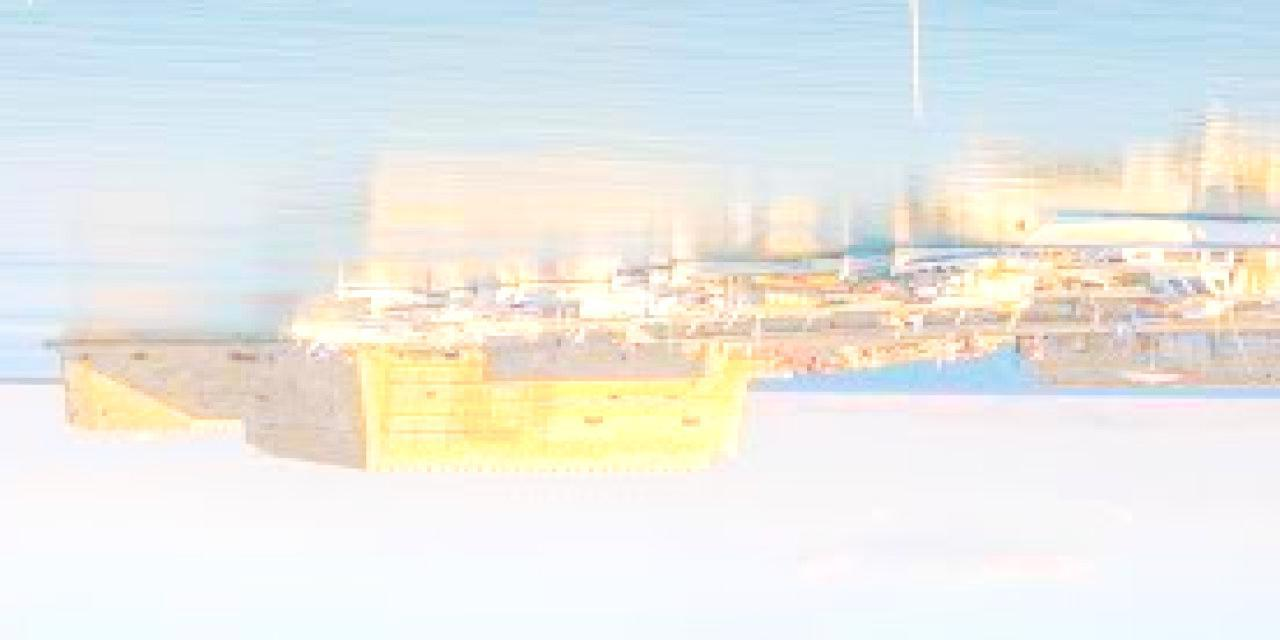Kules: (42, 339, 752, 478)
